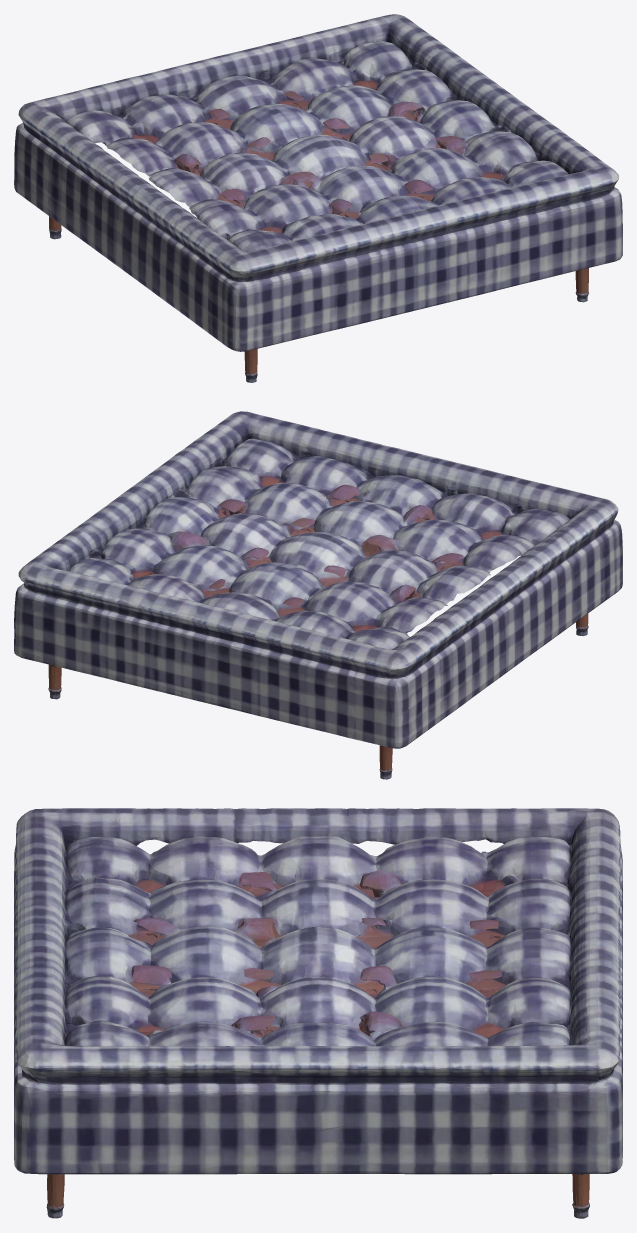
3 views of the same model, one above another, from view 1: azimuth 30°, elevation 25°; view 2: azimuth 150°, elevation 25°; view 3: azimuth 270°, elevation 25° (orthographic). The views are drawn at different scales.
Parts seen in each view (by area): view 1: world; view 2: world; view 3: world.
Part boxes in pixels (left/top/right/bottom): world: left=14, top=14, right=622, bottom=382; world: left=14, top=411, right=622, bottom=779; world: left=14, top=808, right=622, bottom=1218.
Size of the model in its own units: 0.9992 by 0.3235 by 1.
Materials: 1 (1 with a texture image).
